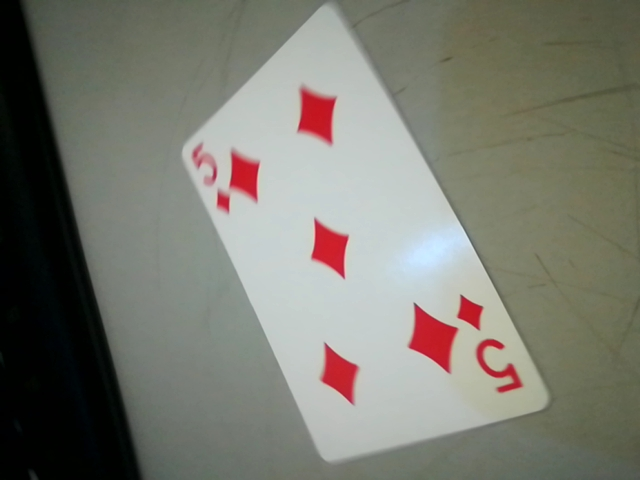fk 5: (450, 290, 530, 401)
